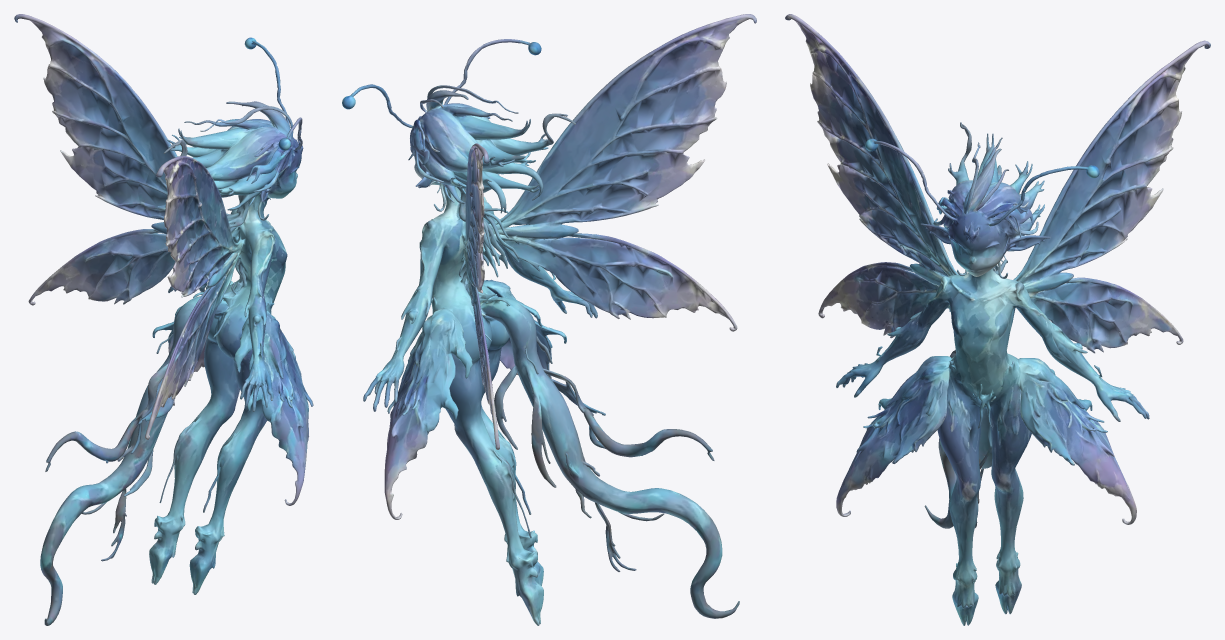
The model's file is figurine-faery.glb.
3 renders of one model, left to right at view 1: azimuth 30°, elevation 25°; view 2: azimuth 150°, elevation 25°; view 3: azimuth 270°, elevation 25°, orthographic. The views are drawn at different scales.
Visible parts, largest first — view 1: tripo_node_166fe8aa-aab0-4332-a6cd-0b2032851d63; view 2: tripo_node_166fe8aa-aab0-4332-a6cd-0b2032851d63; view 3: tripo_node_166fe8aa-aab0-4332-a6cd-0b2032851d63.
Boxes of the visible parts, x1,y1,x2,y2 form: tripo_node_166fe8aa-aab0-4332-a6cd-0b2032851d63: (14, 14, 313, 625); tripo_node_166fe8aa-aab0-4332-a6cd-0b2032851d63: (342, 14, 756, 625); tripo_node_166fe8aa-aab0-4332-a6cd-0b2032851d63: (785, 14, 1210, 625).
Bounding box in the file's own units: 0.5747 × 0.9783 × 0.6839.
1 material, 1 textured.
